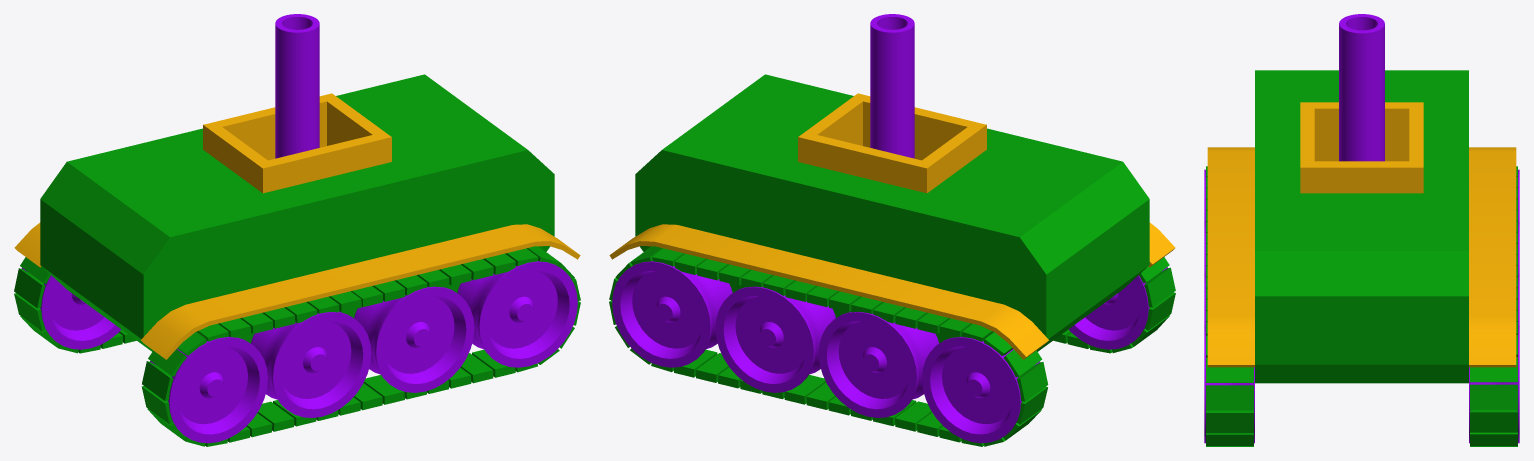
File: Gun07.fbx
The picture shows the model from 3 angles, left to right: view 1: azimuth 30°, elevation 25°; view 2: azimuth 150°, elevation 25°; view 3: azimuth 270°, elevation 25°; orthographic projection. The views are drawn at different scales.
Visible parts, largest first — view 1: Plane.003, Cylinder.016, Cube, Plane.004, Cylinder.023, Cube.001; view 2: Plane.003, Cylinder.016, Cube.001, Plane.004, Cylinder.023, Cube; view 3: Plane.003, Plane.004, Cylinder.023, Cube.001, Cube, Cylinder.016.
Boxes of the visible parts, x1,y1,x2,y2 form: Plane.003: [40, 74, 554, 351]; Cylinder.016: [21, 261, 577, 443]; Cube: [141, 246, 580, 446]; Plane.004: [14, 222, 580, 359]; Cylinder.023: [275, 14, 319, 158]; Cube.001: [14, 257, 136, 353]; Plane.003: [635, 74, 1149, 351]; Cylinder.016: [612, 261, 1167, 443]; Cube.001: [609, 246, 1048, 446]; Plane.004: [609, 222, 1175, 359]; Cylinder.023: [870, 14, 914, 158]; Cube: [1053, 257, 1175, 353]; Plane.003: [1255, 70, 1468, 383]; Plane.004: [1207, 147, 1516, 367]; Cylinder.023: [1339, 14, 1384, 161]; Cube.001: [1470, 166, 1517, 446]; Cube: [1206, 166, 1253, 446]; Cylinder.016: [1204, 169, 1519, 443].
Size of the model in its own units: 466 by 351 by 295.
Materials: 1 (1 with a texture image).
